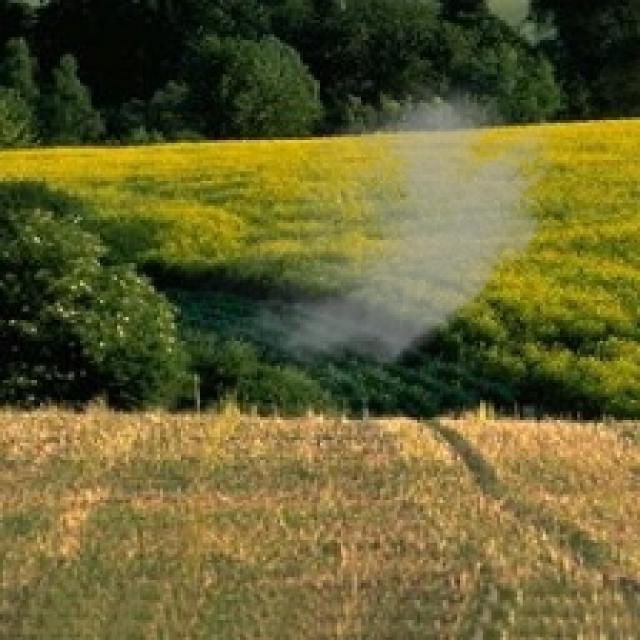Smoke: (200, 63, 569, 406)
